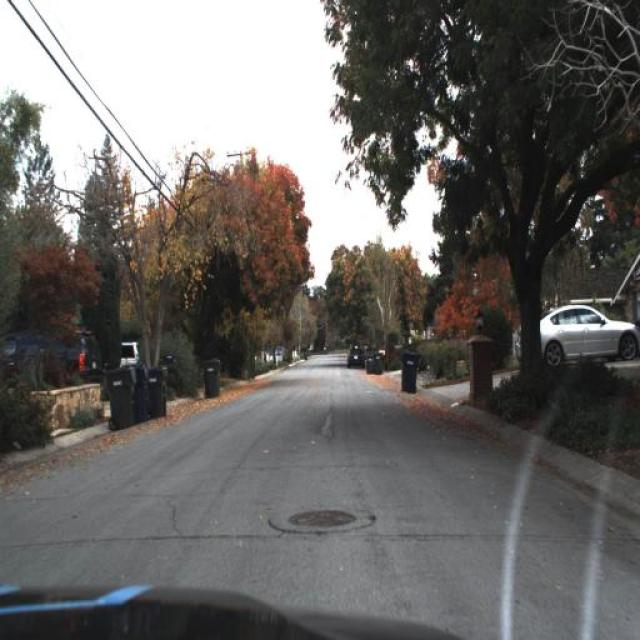car: (514, 301, 638, 368), (0, 324, 105, 390), (344, 338, 368, 378), (117, 342, 141, 367)
